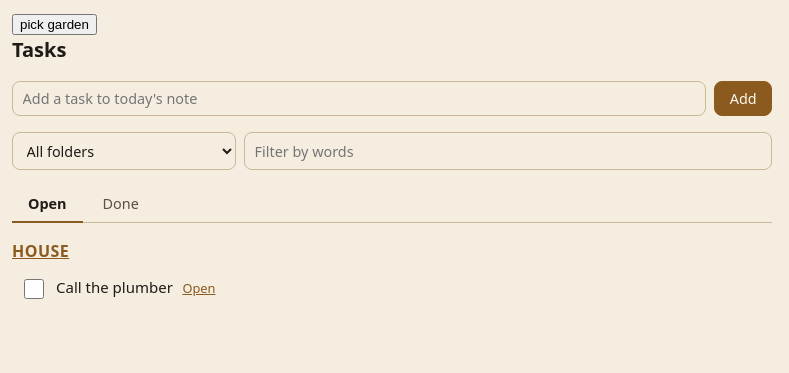
Test case: TasksPage ticking › puts a tick back, says the task changed and refetches on a 409 (AE4)
Click the checkbox labelled "Call the plumber" at (34, 289), box [24,279,44,299]
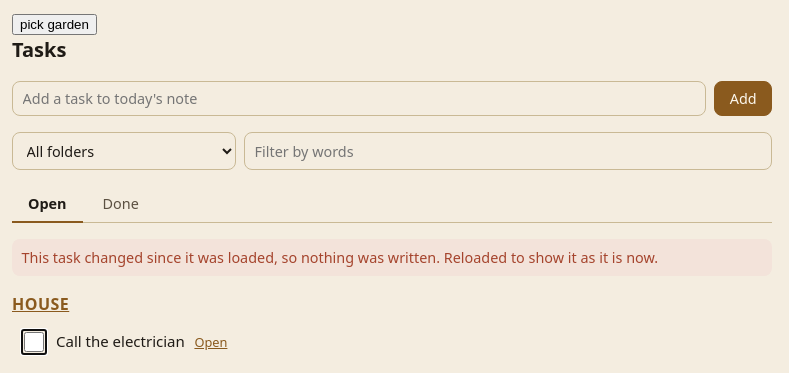
expect the message shows "This task changed since it was loaded, so nothing was written. Reloaded to show it as it is now.": met, box [22,248,658,267]
expect the text "Call the electrician" is shown: met, box [56,331,185,351]
expect the text "Call the plumber" is gone: met
